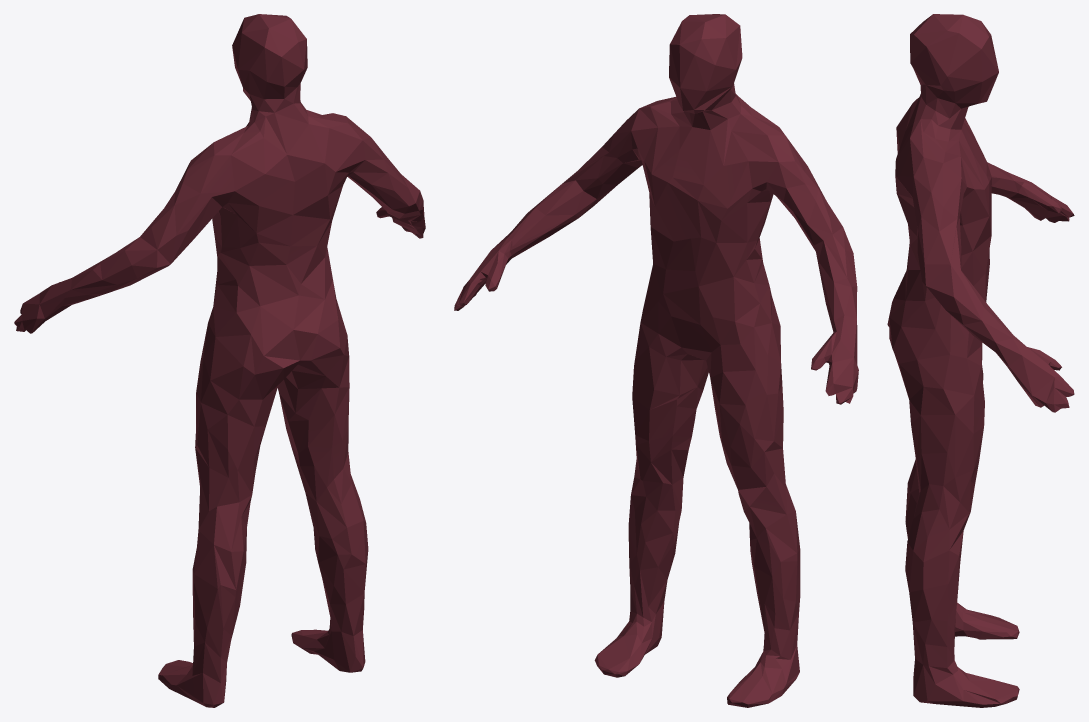
The model's file is Body.obj.
3 views of the same model, side by side, from view 1: azimuth 30°, elevation 25°; view 2: azimuth 150°, elevation 25°; view 3: azimuth 270°, elevation 25° (orthographic).
Visible parts, largest first — view 1: Body; view 2: Body; view 3: Body.
Part boxes in pixels (x1,y1,x2,y2): Body: (14,14,425,707); Body: (454,14,858,707); Body: (887,14,1074,707).
Size of the model in its own units: 1.14 by 1.81 by 0.4713.
